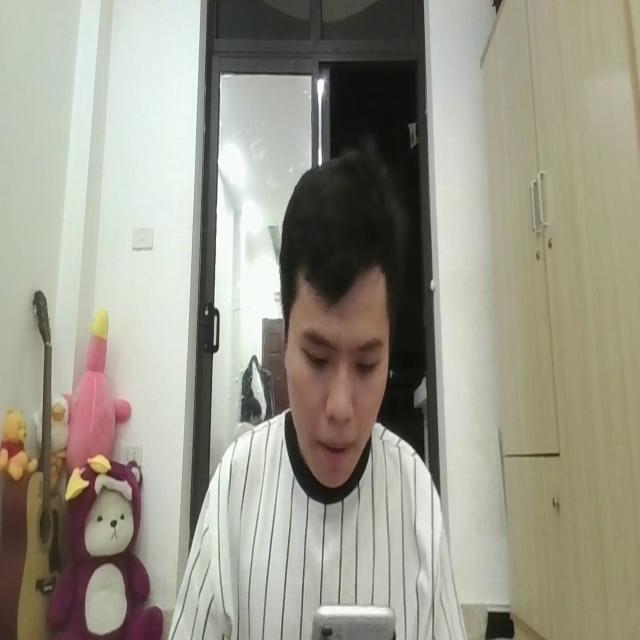phone: (312, 592, 396, 640)
student: (152, 152, 463, 640)
